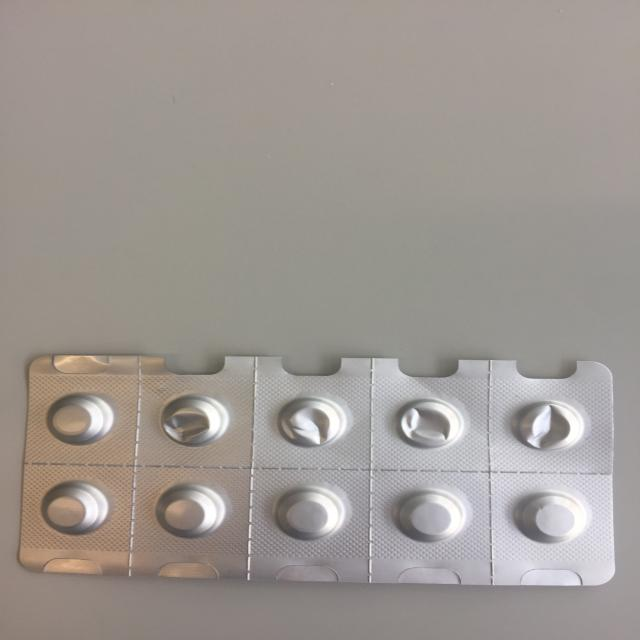Empty: (383, 390, 472, 456), (506, 393, 591, 458), (270, 390, 354, 455), (148, 388, 234, 451)
Pill: (145, 480, 238, 542), (506, 487, 600, 547), (30, 476, 122, 536), (271, 482, 350, 545), (389, 488, 472, 545), (39, 392, 119, 449)
